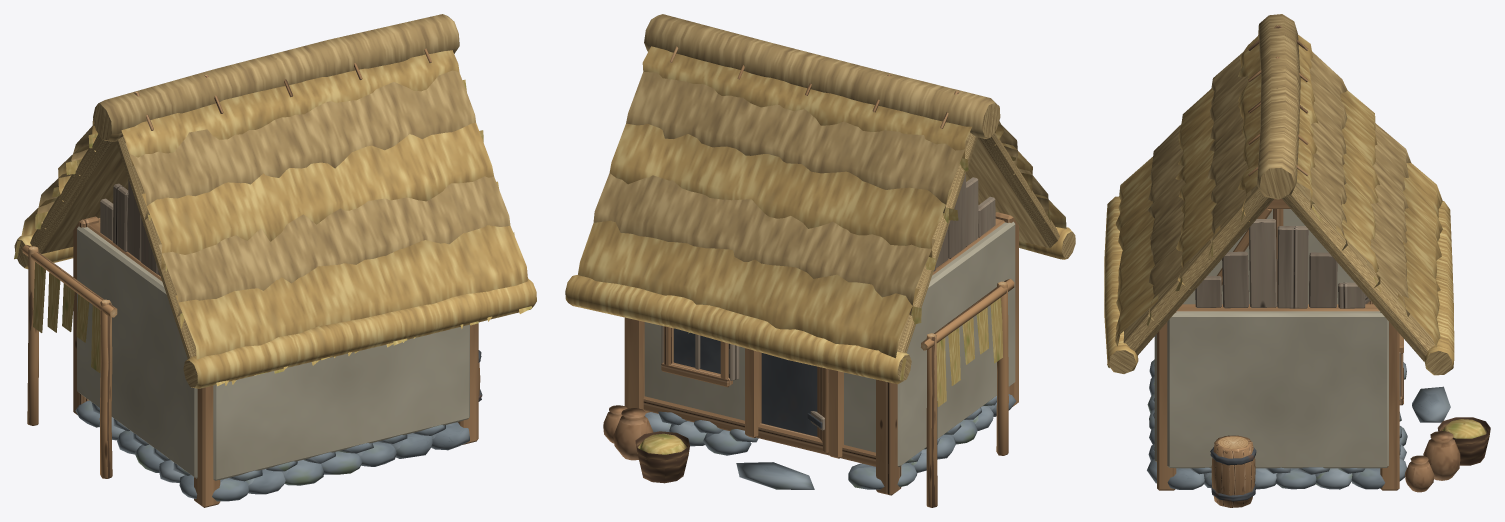
Rendered from bw_healers_hut.fbx.
The picture shows the model from 3 angles, left to right: view 1: azimuth 30°, elevation 25°; view 2: azimuth 150°, elevation 25°; view 3: azimuth 270°, elevation 25°; orthographic projection. The views are drawn at different scales.
Parts seen in each view (by area): view 1: bw_healers_hut; view 2: bw_healers_hut; view 3: bw_healers_hut.
Part boxes in pixels (<box>): bw_healers_hut: <box>14,14,536,507</box>; bw_healers_hut: <box>565,14,1075,507</box>; bw_healers_hut: <box>1104,14,1490,507</box>.
Bounding box in the file's own units: 2.6 × 2.54 × 2.6.
